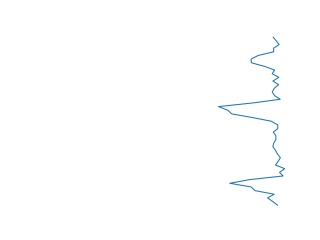underwaterNaturalLevee: (215, 34, 291, 210)
